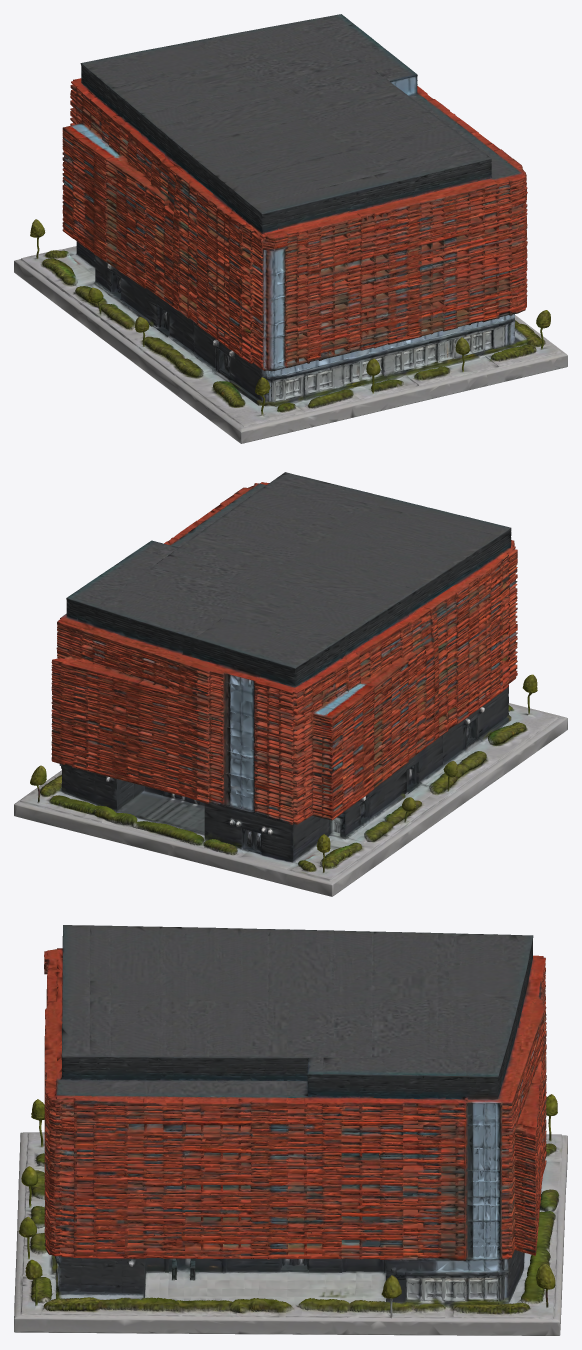
The model's file is b9-datacenter.glb.
3 renders of one model, top to bottom at view 1: azimuth 30°, elevation 25°; view 2: azimuth 150°, elevation 25°; view 3: azimuth 270°, elevation 25°, orthographic. The views are drawn at different scales.
Visible parts, largest first — view 1: tripo_node_6939a828-7214-46fb-b883-591084aaebae; view 2: tripo_node_6939a828-7214-46fb-b883-591084aaebae; view 3: tripo_node_6939a828-7214-46fb-b883-591084aaebae.
Part boxes in pixels (<box>): tripo_node_6939a828-7214-46fb-b883-591084aaebae: <box>14,14,567,443</box>; tripo_node_6939a828-7214-46fb-b883-591084aaebae: <box>14,472,567,896</box>; tripo_node_6939a828-7214-46fb-b883-591084aaebae: <box>14,925,567,1335</box>.
Bounding box in the file's own units: 0.803 × 0.4776 × 0.9799.
Materials: 1 (1 with a texture image).
